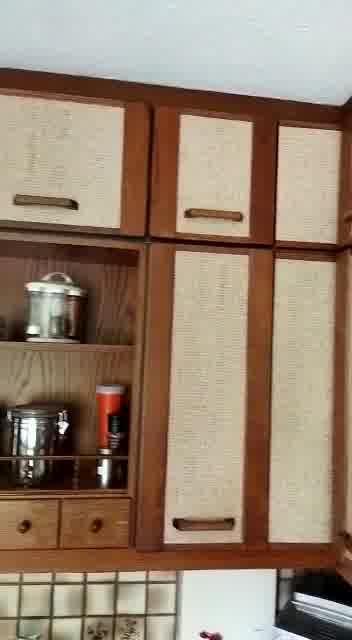cabinet_door: (145, 250, 270, 554), (0, 99, 150, 242), (153, 106, 279, 250), (58, 498, 139, 550), (0, 497, 60, 552)
handle: (8, 189, 80, 215), (168, 511, 238, 537), (175, 201, 247, 226), (82, 513, 105, 534), (12, 516, 32, 533)
